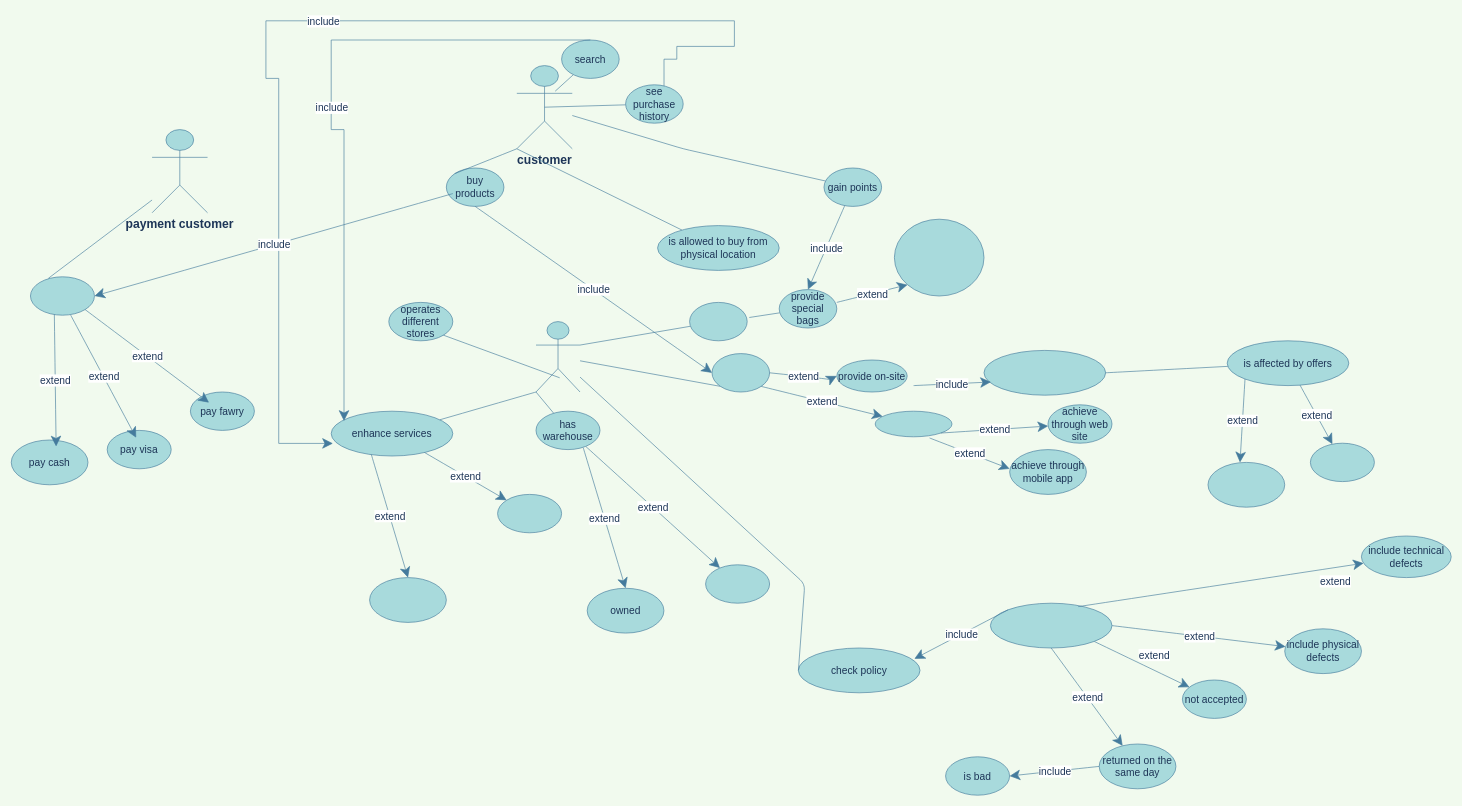
This 1462x806 diagram has some shape labels left out. The shapes that lost their labels are listed below. From the top down, each one's centre as x and y in pixels, then its label:
At pixel 939 257: "reduse plastic wasted and resycle".
At pixel 62 295: "do payment".
At pixel 718 321: "raise awareness".
At pixel 557 356: "Corporate".
At pixel 740 372: "provide services".
At pixel 1044 372: "allow customer to buy from physical location".
At pixel 913 424: "provide off-site".
At pixel 1342 462: "is affected by global event".
At pixel 1246 484: "is affected by local event".
At pixel 529 513: "include web site".
At pixel 407 599: "include mobile app".
At pixel 737 583: "rented".
At pixel 1051 625: "return product".
